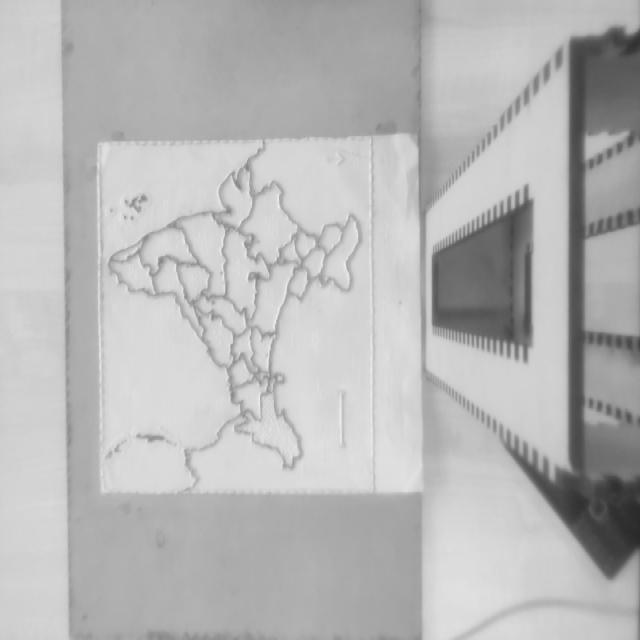map: (99, 138, 374, 493)
